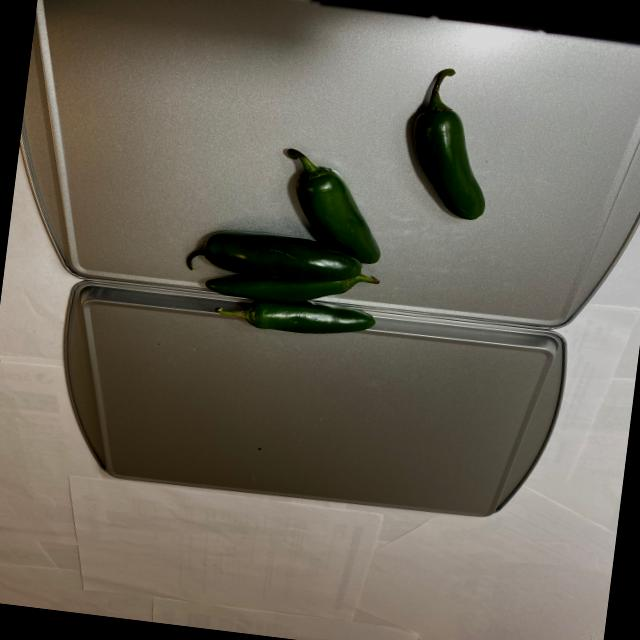chilli: (172, 35, 498, 355)
